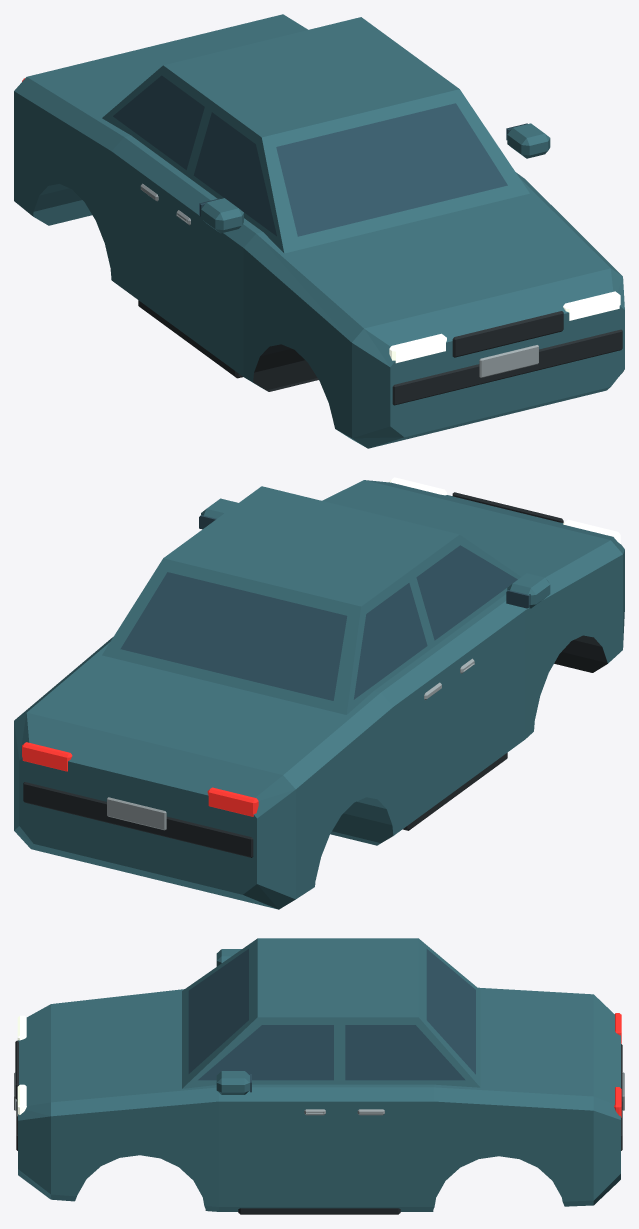
File: sedan.glb
The picture shows the model from 3 angles, top to bottom: view 1: azimuth 30°, elevation 25°; view 2: azimuth 150°, elevation 25°; view 3: azimuth 270°, elevation 25°; orthographic projection. The views are drawn at different scales.
Parts seen in each view (by area): view 1: BODY_Sedan, DoorLeftSkin, DoorRightSkin; view 2: BODY_Sedan, DoorLeftSkin; view 3: BODY_Sedan, DoorRightSkin.
Part boxes in pixels (<box>): BODY_Sedan: <box>14,14,624,448</box>; DoorLeftSkin: <box>171,106,303,378</box>; DoorRightSkin: <box>506,123,550,193</box>; BODY_Sedan: <box>14,477,624,909</box>; DoorLeftSkin: <box>412,537,550,786</box>; BODY_Sedan: <box>14,938,624,1214</box>; DoorRightSkin: <box>193,1021,336,1202</box>.
Bounding box in the file's own units: 2.2 × 1.42 × 4.25.
